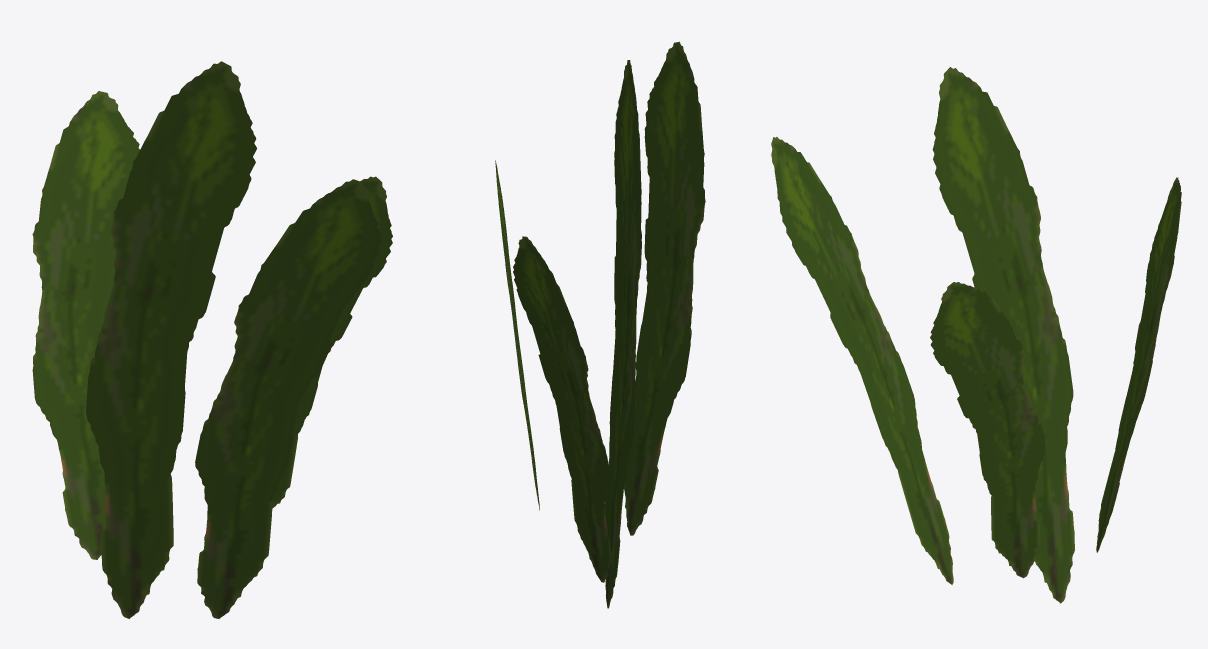
Rendered from cao1_1.fbx.
The picture shows the model from 3 angles, left to right: view 1: azimuth 30°, elevation 25°; view 2: azimuth 150°, elevation 25°; view 3: azimuth 270°, elevation 25°; orthographic projection. The views are drawn at different scales.
Parts seen in each view (by area): view 1: cao1_1; view 2: cao1_1; view 3: cao1_1.
Boxes of the visible parts, left/top/right/bottom form: cao1_1: left=32, top=61, right=392, bottom=618; cao1_1: left=495, top=41, right=705, bottom=608; cao1_1: left=771, top=67, right=1181, bottom=603.
Size of the model in its own units: 274 by 597 by 408.
